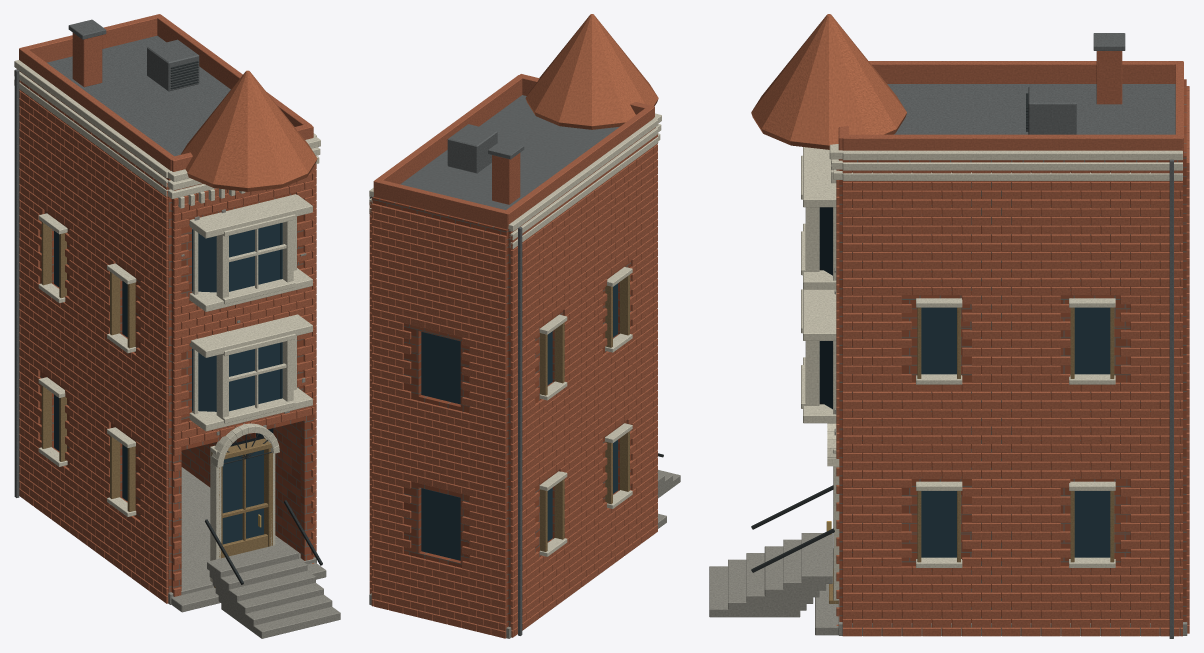
The model's file is VICT6A_lod0.glb.
The picture shows the model from 3 angles, left to right: view 1: azimuth 30°, elevation 25°; view 2: azimuth 150°, elevation 25°; view 3: azimuth 270°, elevation 25°; orthographic projection. The views are drawn at different scales.
Visible parts, largest first — view 1: VICT6A_LOD0; view 2: VICT6A_LOD0; view 3: VICT6A_LOD0.
Part boxes in pixels (x1,y1,x2,y2): VICT6A_LOD0: [14, 14, 340, 638]; VICT6A_LOD0: [369, 14, 680, 638]; VICT6A_LOD0: [709, 14, 1189, 638].
Size of the model in its own units: 3.71 by 11.3 by 8.46.
13 materials, 10 textured.
